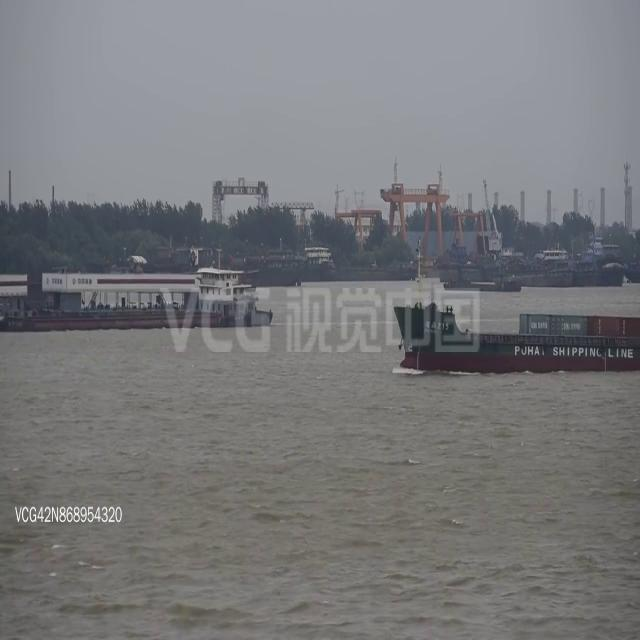cargoship: (0, 223, 278, 350), (378, 265, 640, 395)
